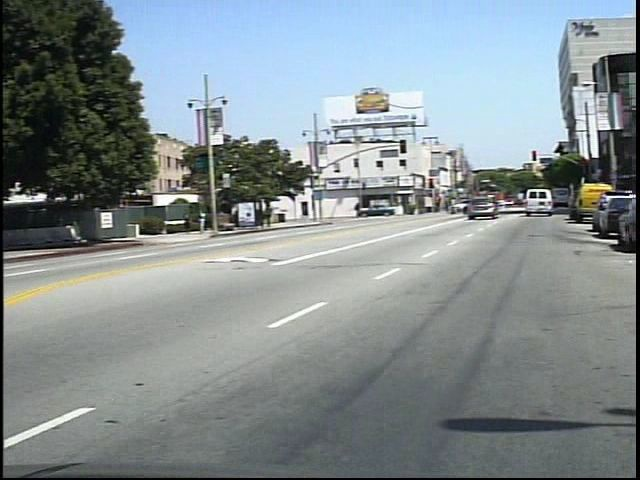person: (204, 207, 219, 236), (190, 210, 204, 235), (362, 201, 371, 214)
